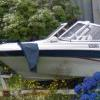Boat: (1, 21, 97, 82)
